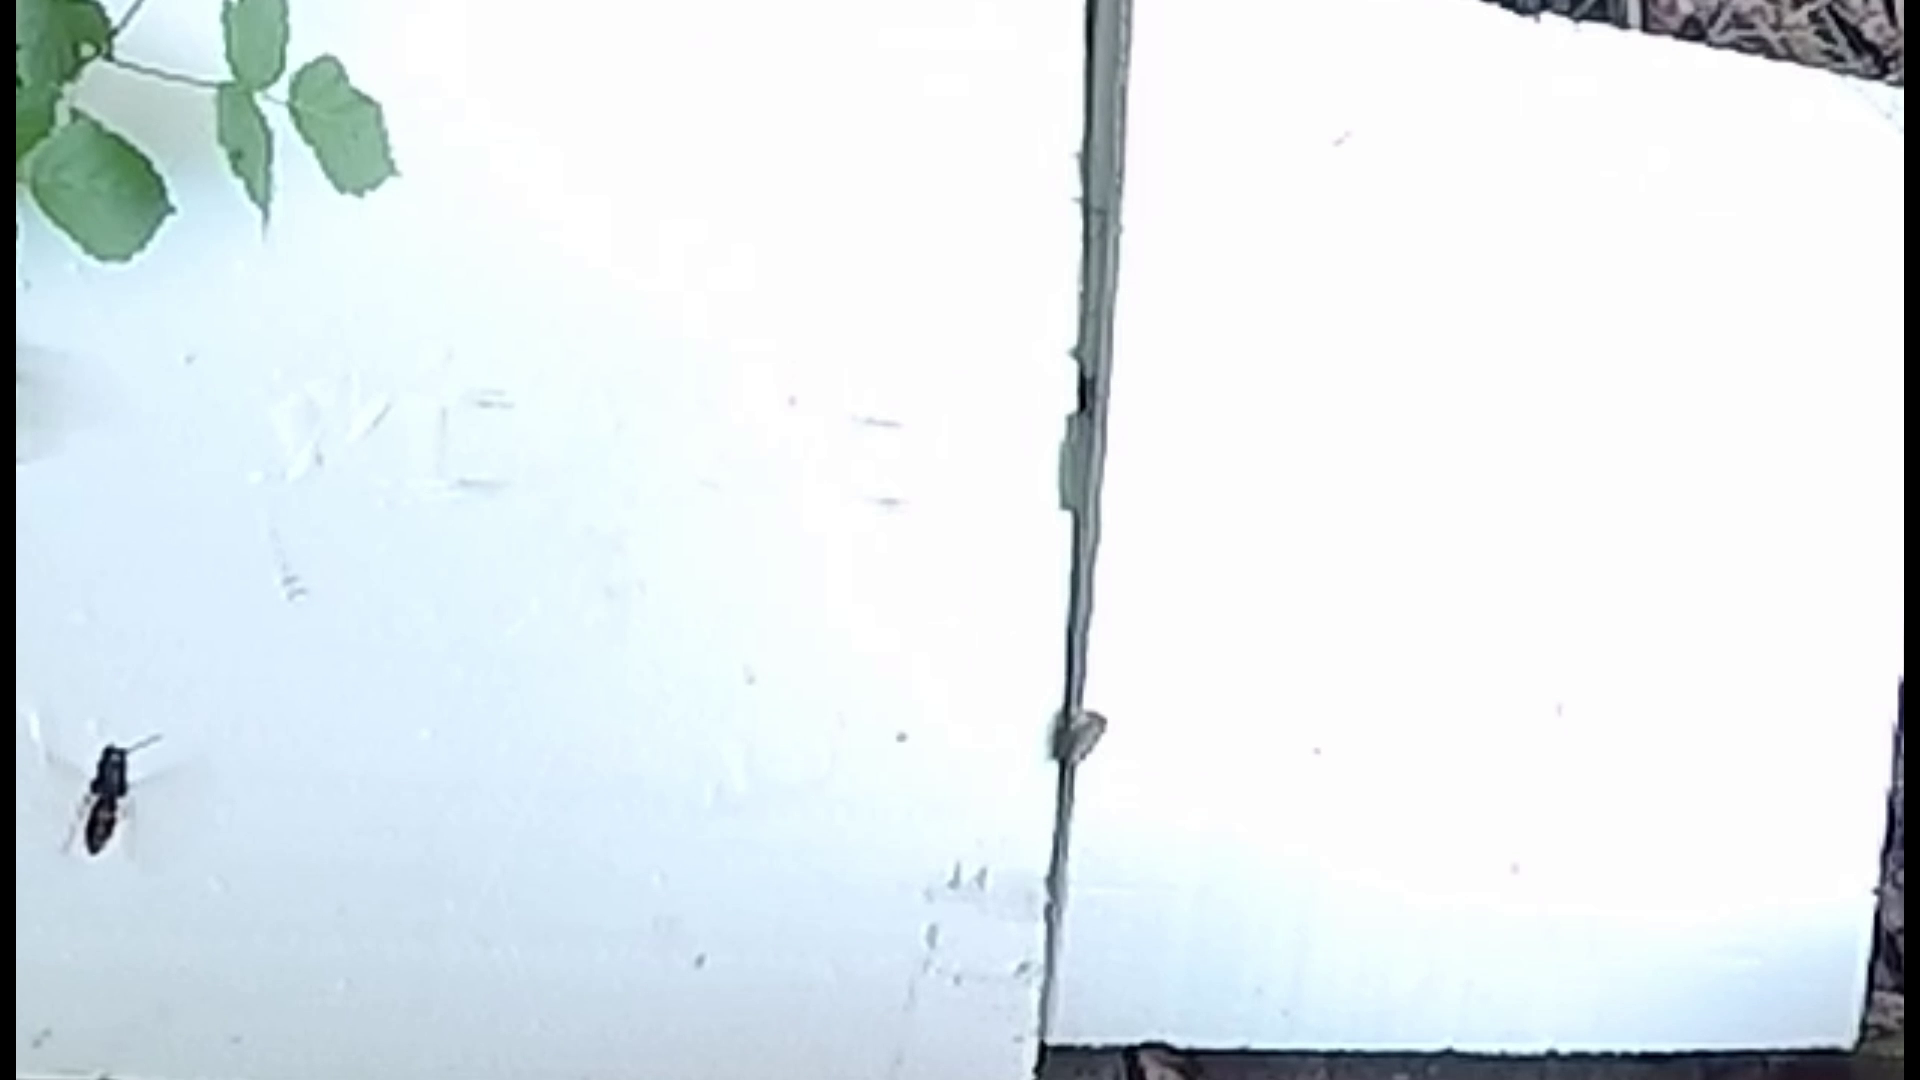Asian_hornets: (45, 717, 174, 870)
